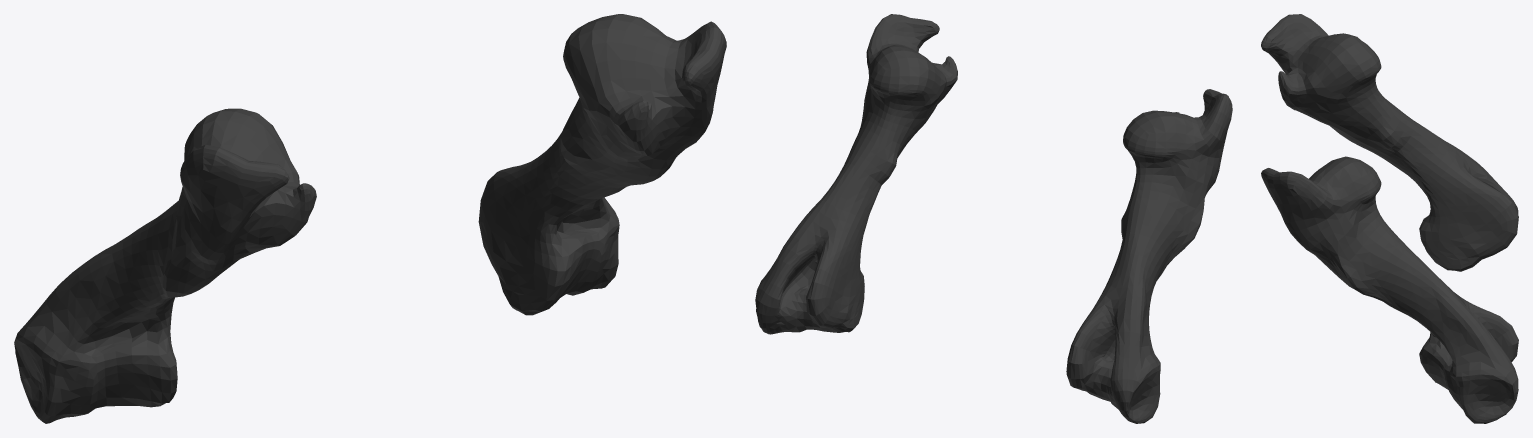
Rendered from b_humerus_L_LO.glb.
3 renders of one model, left to right at view 1: azimuth 30°, elevation 25°; view 2: azimuth 150°, elevation 25°; view 3: azimuth 270°, elevation 25°, orthographic. The views are drawn at different scales.
Visible parts, largest first — view 1: b_humerus_L_LO; view 2: b_humerus_L_LO; view 3: b_humerus_L_LO.
Part boxes in pixels (<box>): b_humerus_L_LO: <box>14,14,726,423</box>; b_humerus_L_LO: <box>755,14,1232,423</box>; b_humerus_L_LO: <box>1261,14,1518,423</box>.
Size of the model in its own units: 0.00434 by 0.00269 by 0.00259.
1 material, 1 textured.
